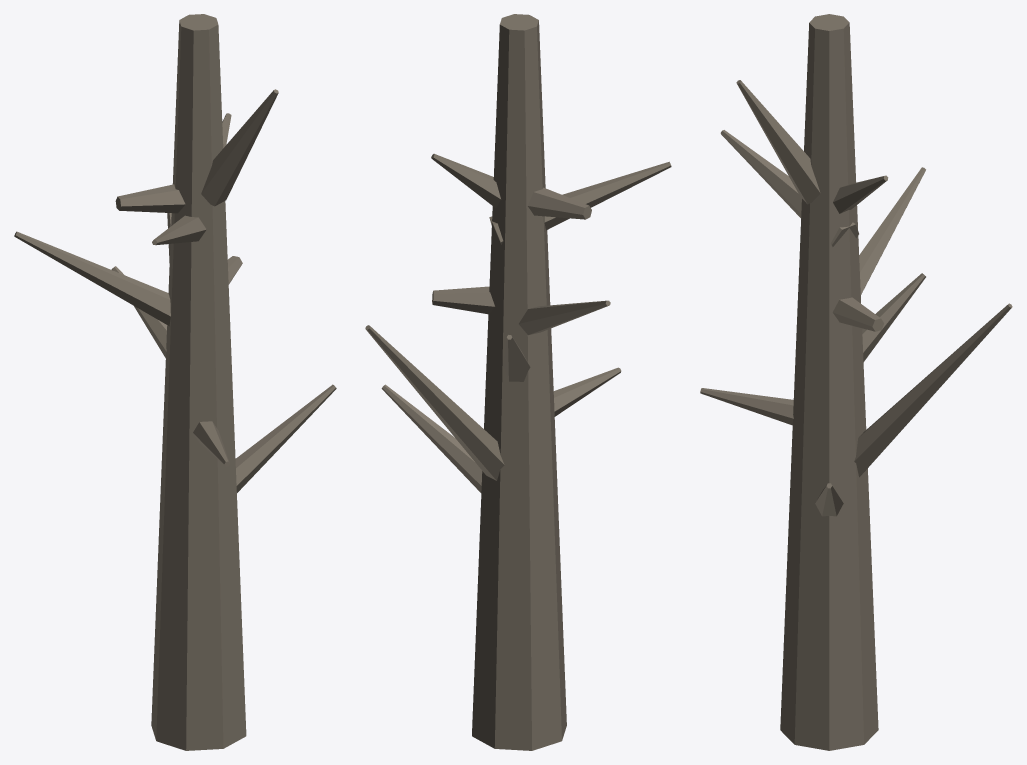
The model's file is dead_tree_LOD0.fbx.
3 views of the same model, side by side, from view 1: azimuth 30°, elevation 25°; view 2: azimuth 150°, elevation 25°; view 3: azimuth 270°, elevation 25° (orthographic).
Visible parts, largest first — view 1: dead_tree; view 2: dead_tree; view 3: dead_tree.
Boxes of the visible parts, box(x1,y1,x2,y2) form: dead_tree: box(14, 14, 336, 750); dead_tree: box(365, 14, 671, 750); dead_tree: box(700, 14, 1012, 750).
Size of the model in its own units: 264 by 650 by 260.
